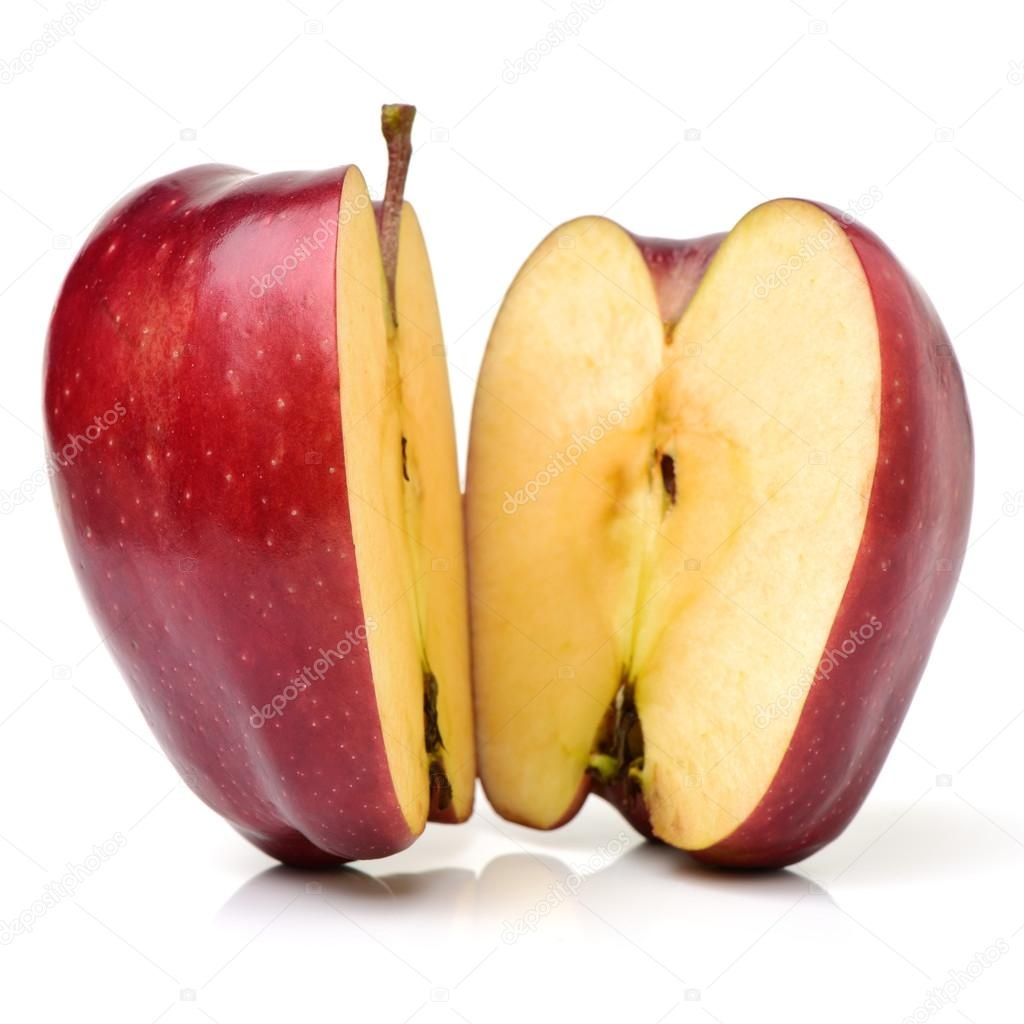apple: (433, 184, 982, 850), (37, 145, 490, 832)
